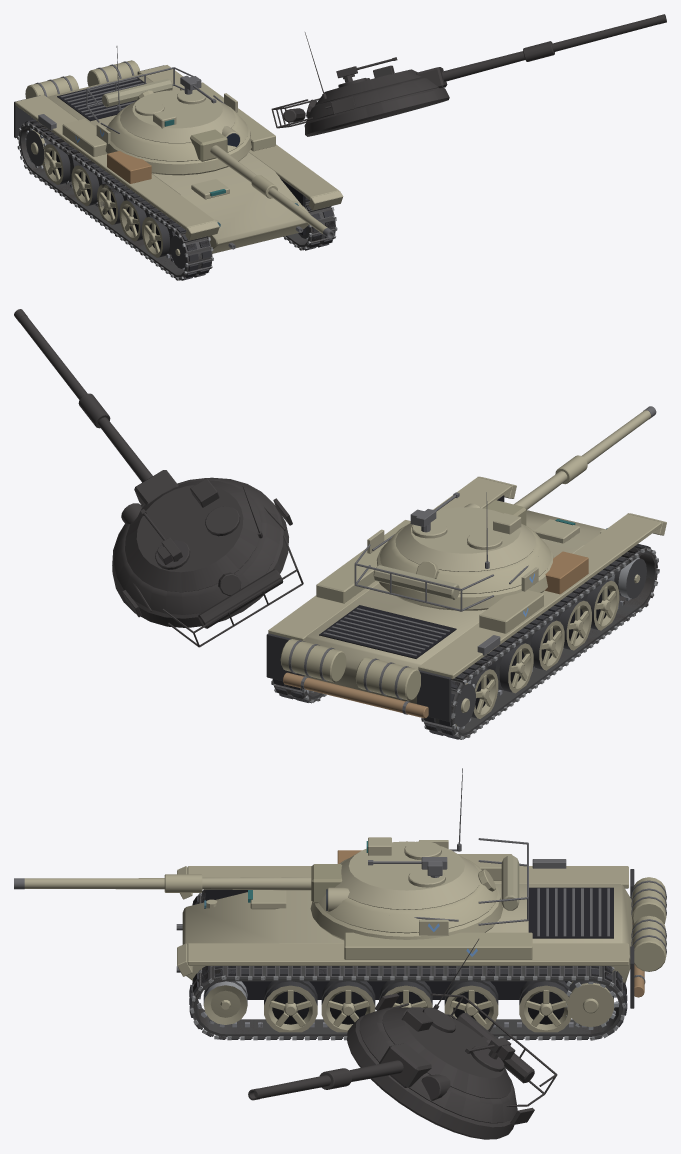
File: tank__t_62_t_72_captured.glb
3 renders of one model, top to bottom at view 1: azimuth 30°, elevation 25°; view 2: azimuth 150°, elevation 25°; view 3: azimuth 270°, elevation 25°, orthographic. The views are drawn at different scales.
Parts seen in each view (by area): view 1: Hull_Mesh, Wreck, Turret_Mesh, Track_L_Mesh, Gun_Mesh, Track_R_Mesh, Wheel_L0_Mesh, Wheel_L4_Mesh, Wheel_L1_Mesh, Wheel_L3_Mesh, Wheel_L2_Mesh, Sprocket_L_Mesh; view 2: Hull_Mesh, Wreck, Turret_Mesh, Track_L_Mesh, Gun_Mesh, Wheel_L1_Mesh, Wheel_L2_Mesh, Wheel_L4_Mesh, Wheel_L3_Mesh, Wheel_L0_Mesh, Idler_L_Mesh, Sprocket_L_Mesh (+1 smaller); view 3: Hull_Mesh, Wreck, Turret_Mesh, Track_R_Mesh, Gun_Mesh, Wheel_R4_Mesh, Wheel_R0_Mesh, Wheel_R3_Mesh, Sprocket_R_Mesh, Wheel_R1_Mesh, Idler_R_Mesh, Wheel_R2_Mesh (+2 smaller).
Boxes of the visible parts, bbox=[...] form: Hull_Mesh: bbox=[14, 60, 343, 253]; Wreck: bbox=[17, 14, 666, 280]; Turret_Mesh: bbox=[86, 67, 251, 175]; Track_L_Mesh: bbox=[17, 119, 213, 280]; Gun_Mesh: bbox=[190, 129, 334, 238]; Track_R_Mesh: bbox=[283, 197, 337, 250]; Wheel_L0_Mesh: bbox=[43, 143, 80, 184]; Wheel_L4_Mesh: bbox=[142, 216, 176, 257]; Wheel_L1_Mesh: bbox=[71, 164, 106, 206]; Wheel_L3_Mesh: bbox=[119, 199, 150, 241]; Wheel_L2_Mesh: bbox=[97, 183, 128, 224]; Sprocket_L_Mesh: bbox=[25, 127, 51, 168]; Hull_Mesh: bbox=[266, 476, 666, 721]; Wreck: bbox=[14, 309, 659, 737]; Turret_Mesh: bbox=[354, 503, 553, 611]; Track_L_Mesh: bbox=[421, 544, 659, 739]; Gun_Mesh: bbox=[484, 406, 656, 525]; Wheel_L1_Mesh: bbox=[487, 642, 533, 693]; Wheel_L2_Mesh: bbox=[522, 620, 564, 670]; Wheel_L4_Mesh: bbox=[580, 580, 619, 630]; Wheel_L3_Mesh: bbox=[553, 599, 591, 650]; Wheel_L0_Mesh: bbox=[470, 668, 498, 718]; Idler_L_Mesh: bbox=[608, 557, 646, 598]; Sprocket_L_Mesh: bbox=[454, 680, 475, 730]; Hull_Mesh: bbox=[176, 850, 666, 1008]; Wreck: bbox=[190, 889, 626, 1139]; Turret_Mesh: bbox=[310, 838, 528, 940]; Track_R_Mesh: bbox=[189, 966, 627, 1040]; Gun_Mesh: bbox=[14, 864, 342, 903]; Wheel_R4_Mesh: bbox=[264, 981, 317, 1032]; Wheel_R0_Mesh: bbox=[519, 981, 571, 1032]; Wheel_R3_Mesh: bbox=[321, 981, 375, 1032]; Sprocket_R_Mesh: bbox=[565, 981, 618, 1029]; Wheel_R1_Mesh: bbox=[444, 981, 498, 1029]; Idler_R_Mesh: bbox=[203, 981, 247, 1024]; Wheel_R2_Mesh: bbox=[379, 981, 432, 1007].
Size of what is drawn, in the model's own units: 11.18 by 3.31 by 9.71.
